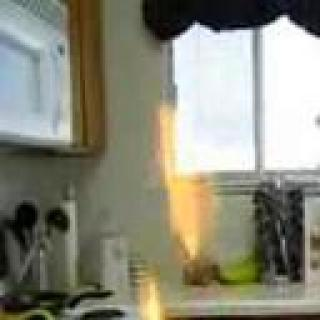fire: (139, 98, 233, 276), (135, 311, 268, 320)
